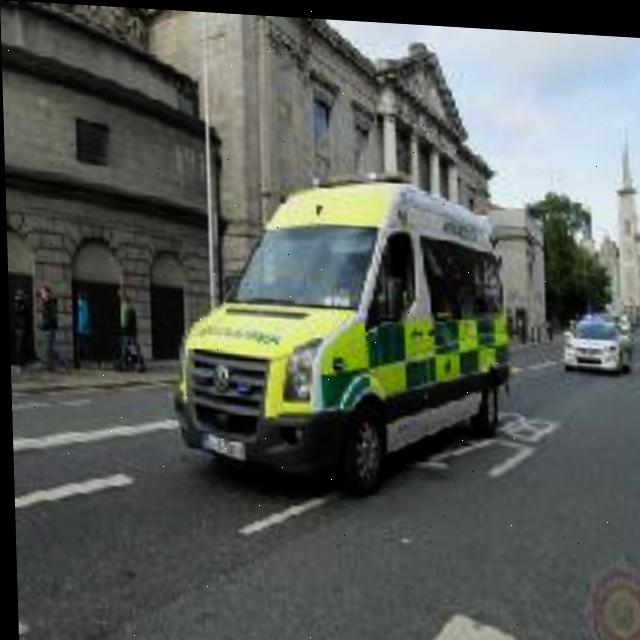emergency: (168, 159, 522, 482)
